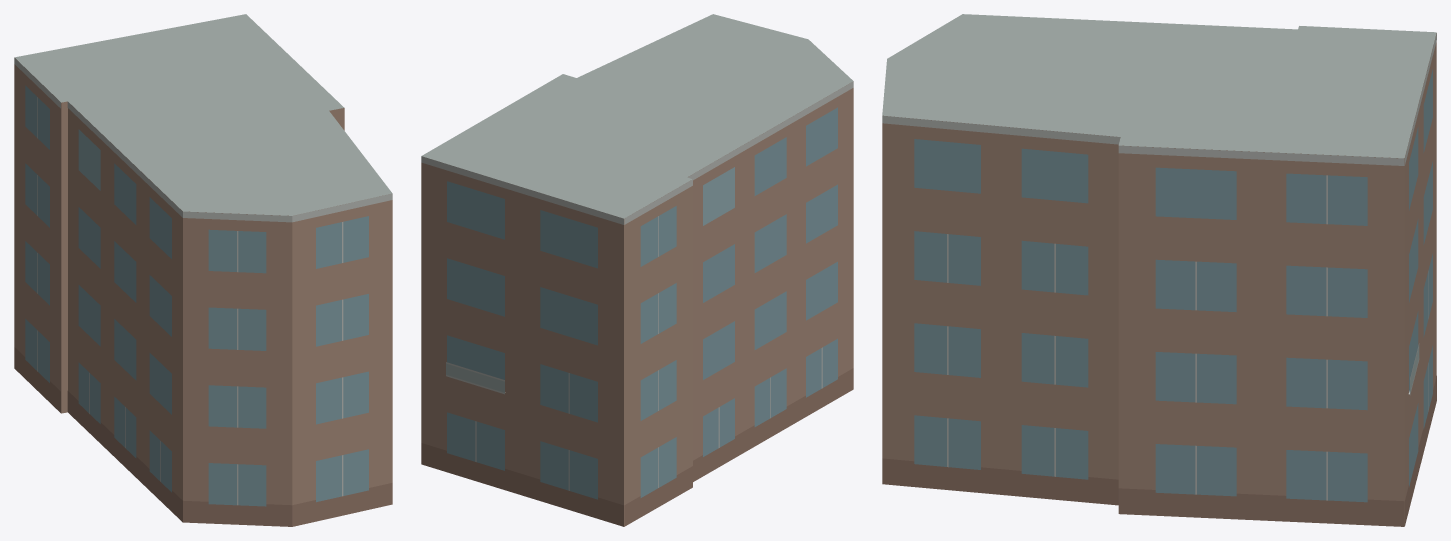
Rendered from survey-upis-32912665.glb.
3 renders of one model, left to right at view 1: azimuth 30°, elevation 25°; view 2: azimuth 150°, elevation 25°; view 3: azimuth 270°, elevation 25°, orthographic. The views are drawn at different scales.
Visible parts, largest first — view 1: survey-upis-32912665.tmp; view 2: survey-upis-32912665.tmp; view 3: survey-upis-32912665.tmp.
Boxes of the visible parts, x1,y1,x2,y2 form: survey-upis-32912665.tmp: [14, 14, 392, 526]; survey-upis-32912665.tmp: [421, 14, 853, 526]; survey-upis-32912665.tmp: [882, 14, 1436, 526].
Size of the model in its own units: 9.84 by 11.7 by 15.97.
